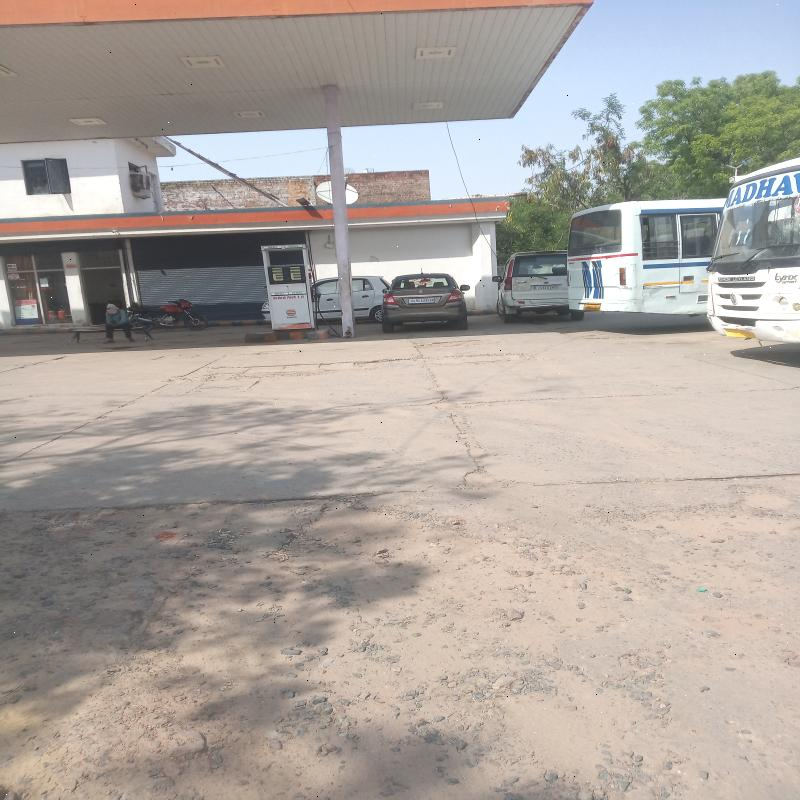bus: (564, 215, 686, 342), (718, 169, 800, 348)
